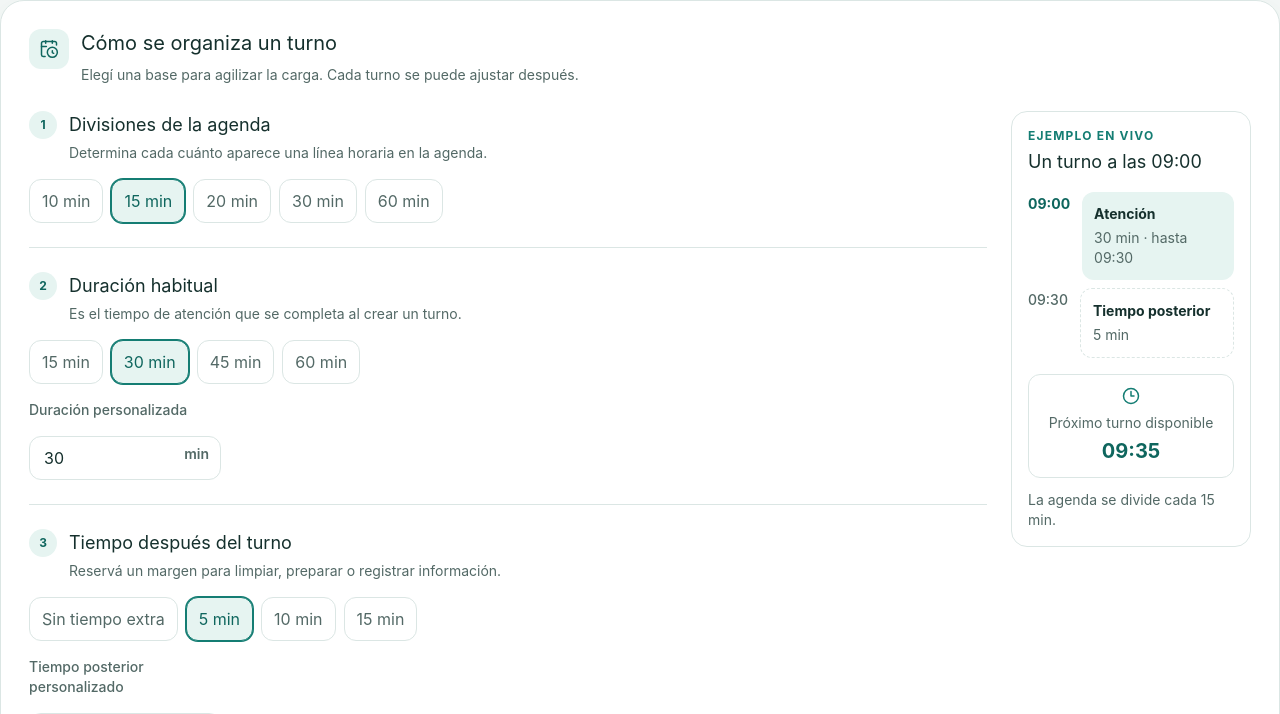
AgendaPreferencesForm › updates the live example from the quick duration choices
Expected: the text "09:35" is shown, [1102, 439, 1160, 463]
Click the button with aria-label "45 minutos": (236,362) [197, 340, 274, 384]
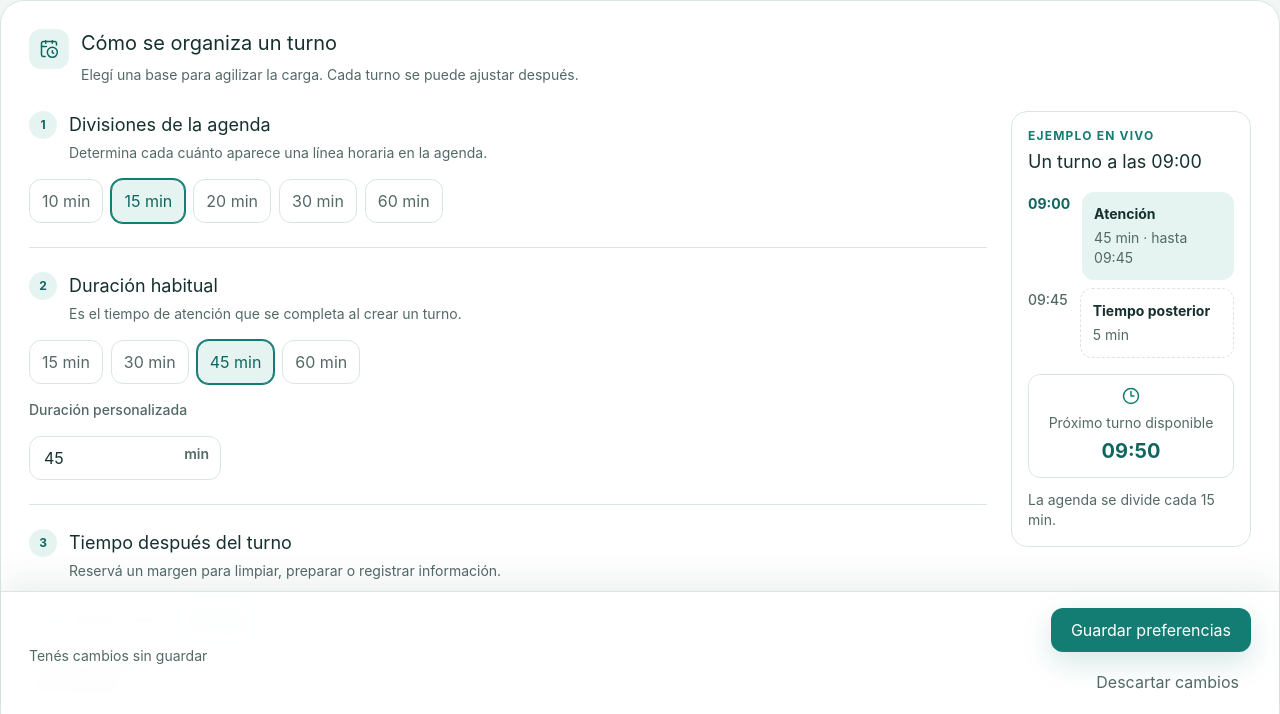
Now the number field labelled "Duración personalizada" holds "45", box [29, 436, 221, 480]
Now the text "09:50" is shown, box [1102, 439, 1161, 463]
Now the button "Guardar preferencias" is enabled, box [1051, 608, 1251, 652]
